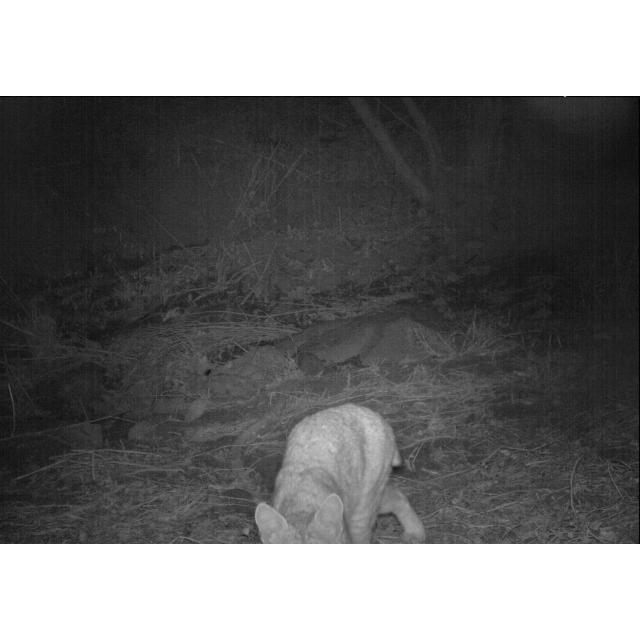animals: (254, 398, 430, 544)
